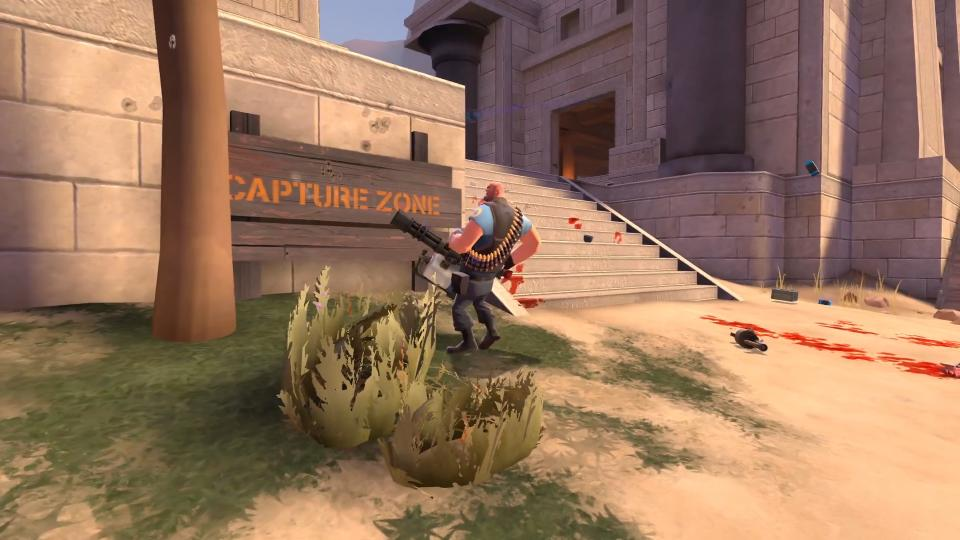Enemy: (392, 183, 539, 352)
